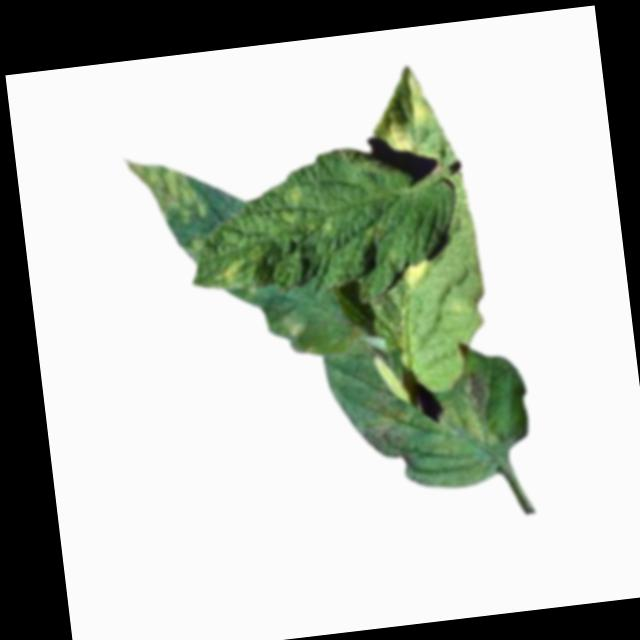Leaf_Mold: (121, 146, 207, 229), (436, 365, 500, 451), (405, 70, 434, 129), (400, 257, 434, 294), (214, 255, 248, 288), (382, 122, 411, 159), (275, 182, 306, 210)
